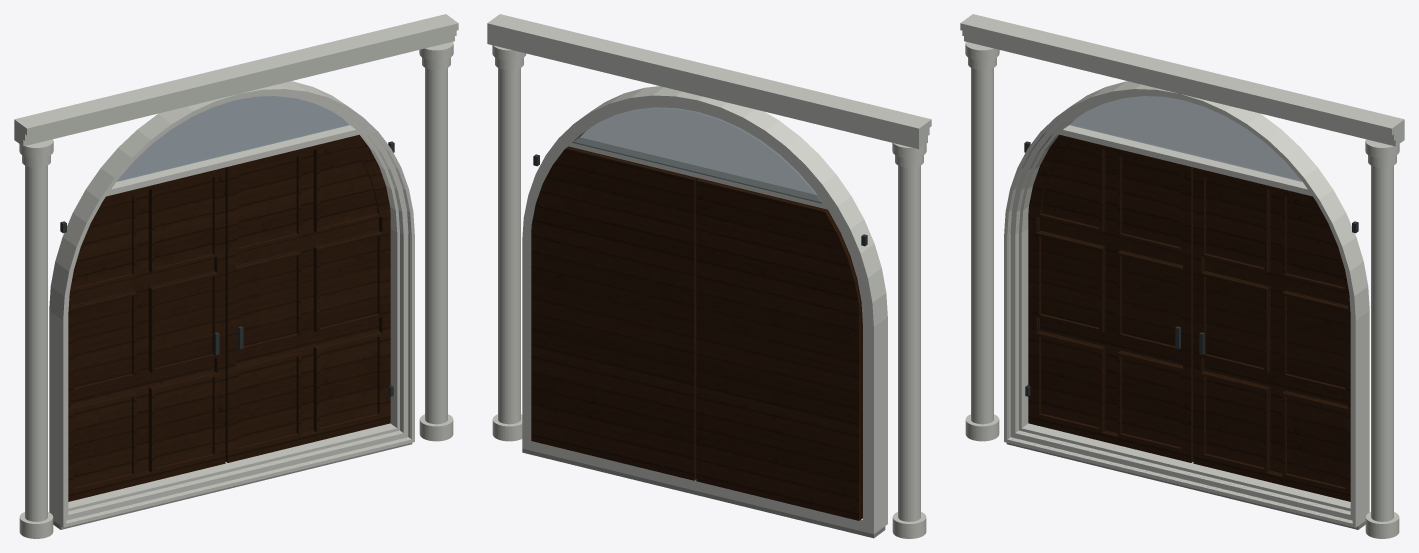
File: clasico_arch_porton.glb
The picture shows the model from 3 angles, left to right: view 1: azimuth 30°, elevation 25°; view 2: azimuth 150°, elevation 25°; view 3: azimuth 330°, elevation 25°; orthographic projection.
Parts seen in each view (by area): view 1: door_portal_cornice#0003, transom_glass#0001, door_column#0002, door_column#0006, door_leaf_frame#0002, door_panel_back#0001, door_panel_back#0002, door_reveal#0001, door_moulding#0020, door_leaf_frame#0001, door_coffer#0011, door_coffer#0005 (+47 smaller); view 2: door_panel_back#0001, door_panel_back#0002, door_reveal#0001, transom_glass#0001, door_leaf_frame#0001, door_leaf_frame#0002, door_portal_cornice#0003, door_column#0002, door_column#0006, door_moulding#0020, door_portal_cornice#0002, door_portal_cornice#0001 (+4 smaller); view 3: door_portal_cornice#0003, transom_glass#0001, door_column#0006, door_column#0002, door_leaf_frame#0001, door_panel_back#0002, door_panel_back#0001, door_reveal#0001, door_moulding#0020, door_leaf_frame#0002, door_coffer#0002, door_coffer#0008 (+47 smaller).
Part boxes in pixels (box(x1,y1,x2,y2)): door_portal_cornice#0003: box(14, 14, 458, 135); transom_glass#0001: box(116, 96, 349, 181); door_column#0002: box(25, 165, 47, 521); door_column#0006: box(425, 68, 447, 424); door_leaf_frame#0002: box(225, 134, 390, 462); door_panel_back#0001: box(71, 190, 214, 473); door_panel_back#0002: box(236, 150, 378, 433); door_reveal#0001: box(49, 81, 395, 521); door_moulding#0020: box(54, 83, 414, 527); door_leaf_frame#0001: box(68, 167, 225, 501); door_coffer#0011: box(313, 230, 379, 331); door_coffer#0005: box(148, 271, 214, 371); door_panel_back#0001: box(704, 191, 850, 510); door_panel_back#0002: box(539, 158, 685, 469); door_reveal#0001: box(522, 91, 879, 534); transom_glass#0001: box(572, 107, 822, 203); door_leaf_frame#0001: box(696, 178, 862, 520); door_leaf_frame#0002: box(531, 146, 698, 480); door_portal_cornice#0003: box(487, 14, 931, 135); door_column#0002: box(898, 165, 920, 521); door_column#0006: box(498, 68, 520, 424); door_moulding#0020: box(584, 86, 887, 530); door_portal_cornice#0002: box(487, 30, 929, 142); door_portal_cornice#0001: box(487, 37, 927, 149); door_portal_cornice#0003: box(960, 14, 1404, 135); transom_glass#0001: box(1069, 96, 1302, 181); door_column#0006: box(1371, 165, 1393, 521); door_column#0002: box(971, 68, 993, 424); door_leaf_frame#0001: box(1028, 134, 1193, 462); door_panel_back#0002: box(1204, 190, 1347, 473); door_panel_back#0001: box(1040, 150, 1182, 433); door_reveal#0001: box(1023, 81, 1369, 520); door_moulding#0020: box(1004, 83, 1364, 527); door_leaf_frame#0002: box(1193, 167, 1350, 501); door_coffer#0002: box(1039, 230, 1105, 331); door_coffer#0008: box(1204, 271, 1270, 371).
Bounding box in the file's own units: 3.93 × 3.62 × 0.3594.
6 materials, 1 textured.
